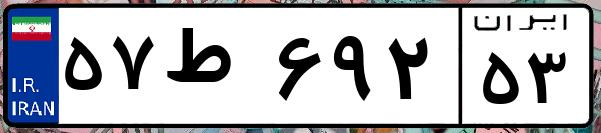2: (385, 28, 445, 110)
3: (525, 38, 570, 115)
5: (57, 26, 110, 100), (475, 38, 525, 113)
6: (270, 28, 330, 110)
7: (110, 28, 158, 98)
9: (330, 28, 385, 110)
ط: (158, 20, 270, 120)
